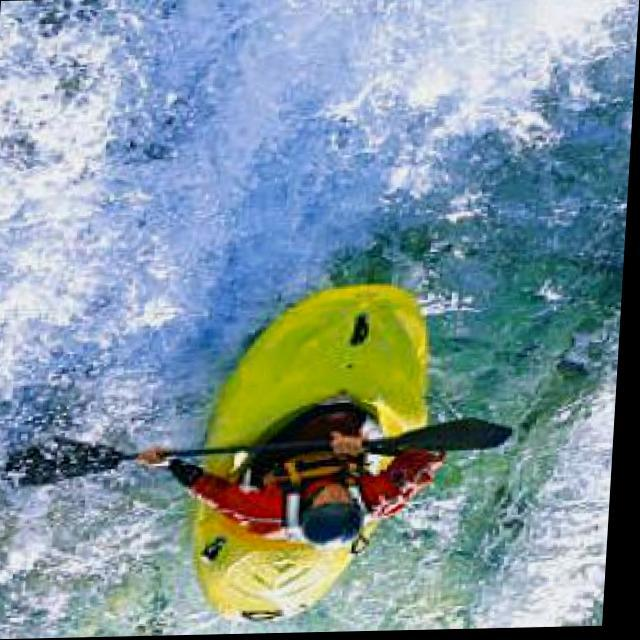kayak: (137, 286, 513, 622)
